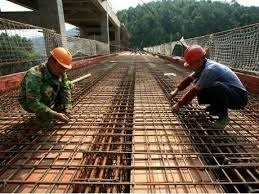helmet: (181, 44, 208, 69), (50, 46, 73, 71)
person with partial safety: (180, 45, 248, 120), (26, 47, 73, 125)
